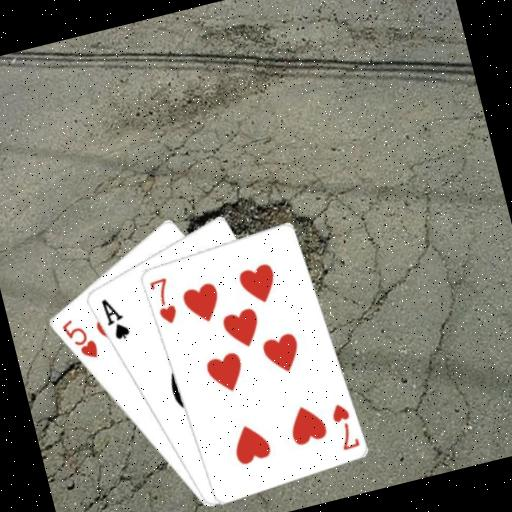5H: (57, 312, 101, 366)
7H: (326, 398, 362, 453), (145, 273, 180, 328)
AS: (96, 291, 132, 344)
